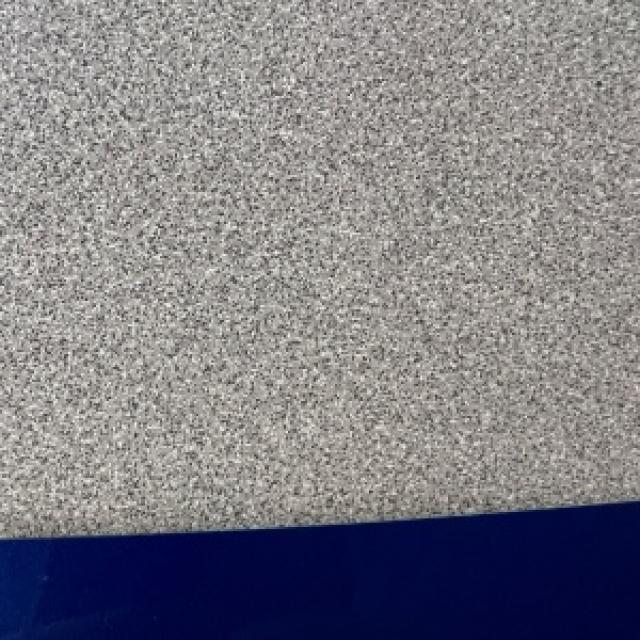healthy: (0, 561, 634, 638)
